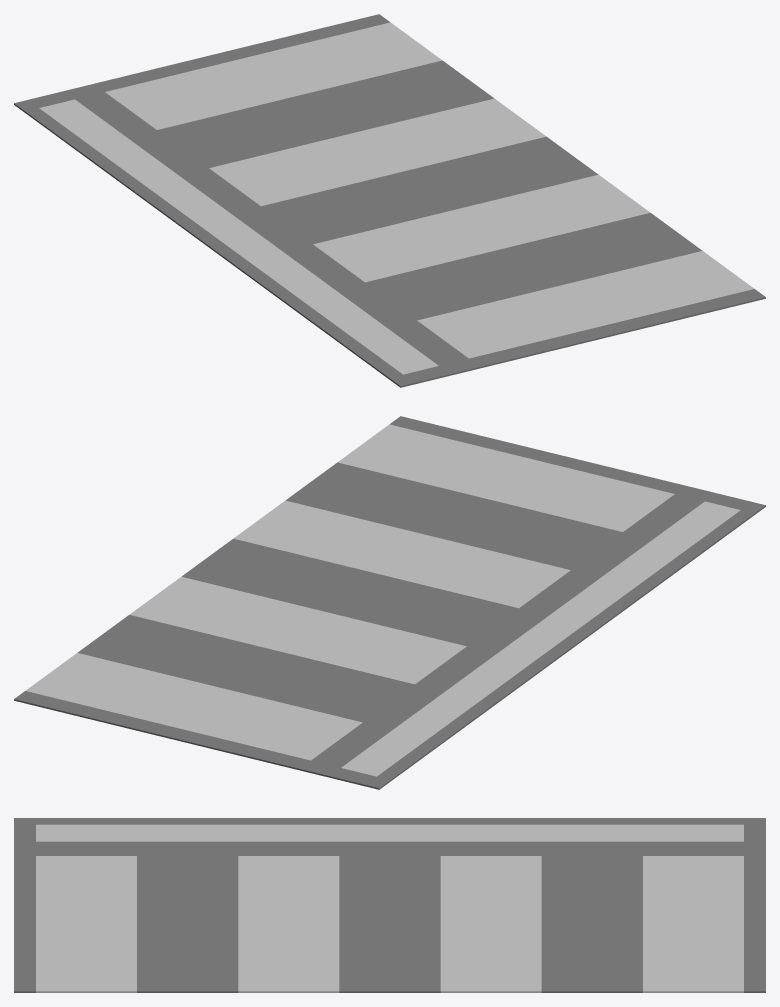
File: crosswalk.fbx
3 renders of one model, top to bottom at view 1: azimuth 30°, elevation 25°; view 2: azimuth 150°, elevation 25°; view 3: azimuth 270°, elevation 25°, orthographic. The views are drawn at different scales.
Parts seen in each view (by area): view 1: crosswalk; view 2: crosswalk; view 3: crosswalk.
Part boxes in pixels (x1=…): crosswalk: x1=14, y1=14, x2=765, y2=387; crosswalk: x1=14, y1=416, x2=765, y2=789; crosswalk: x1=14, y1=818, x2=765, y2=992.
Bounding box in the file's own units: 760 × 3.15 × 1393.
